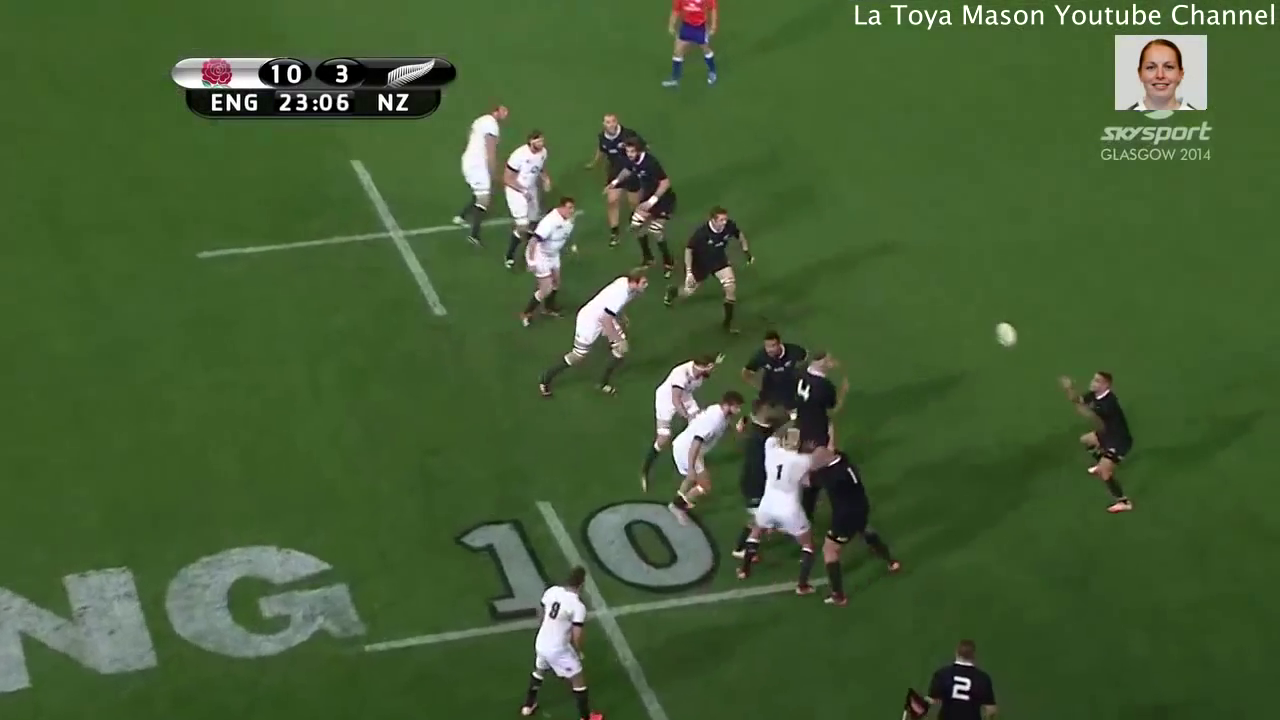10_metre: (351, 492, 841, 720), (190, 152, 593, 329)
ball: (989, 316, 1021, 356)
player: (805, 443, 908, 608), (529, 268, 651, 400), (733, 416, 822, 592), (649, 202, 761, 336), (1048, 362, 1140, 520), (515, 560, 605, 720), (661, 389, 745, 524), (441, 98, 514, 252), (641, 348, 721, 487), (615, 137, 676, 276), (518, 195, 581, 327), (497, 124, 549, 270), (925, 632, 1001, 720), (657, 1, 726, 92), (585, 105, 630, 243), (791, 345, 848, 444), (743, 331, 806, 419)
